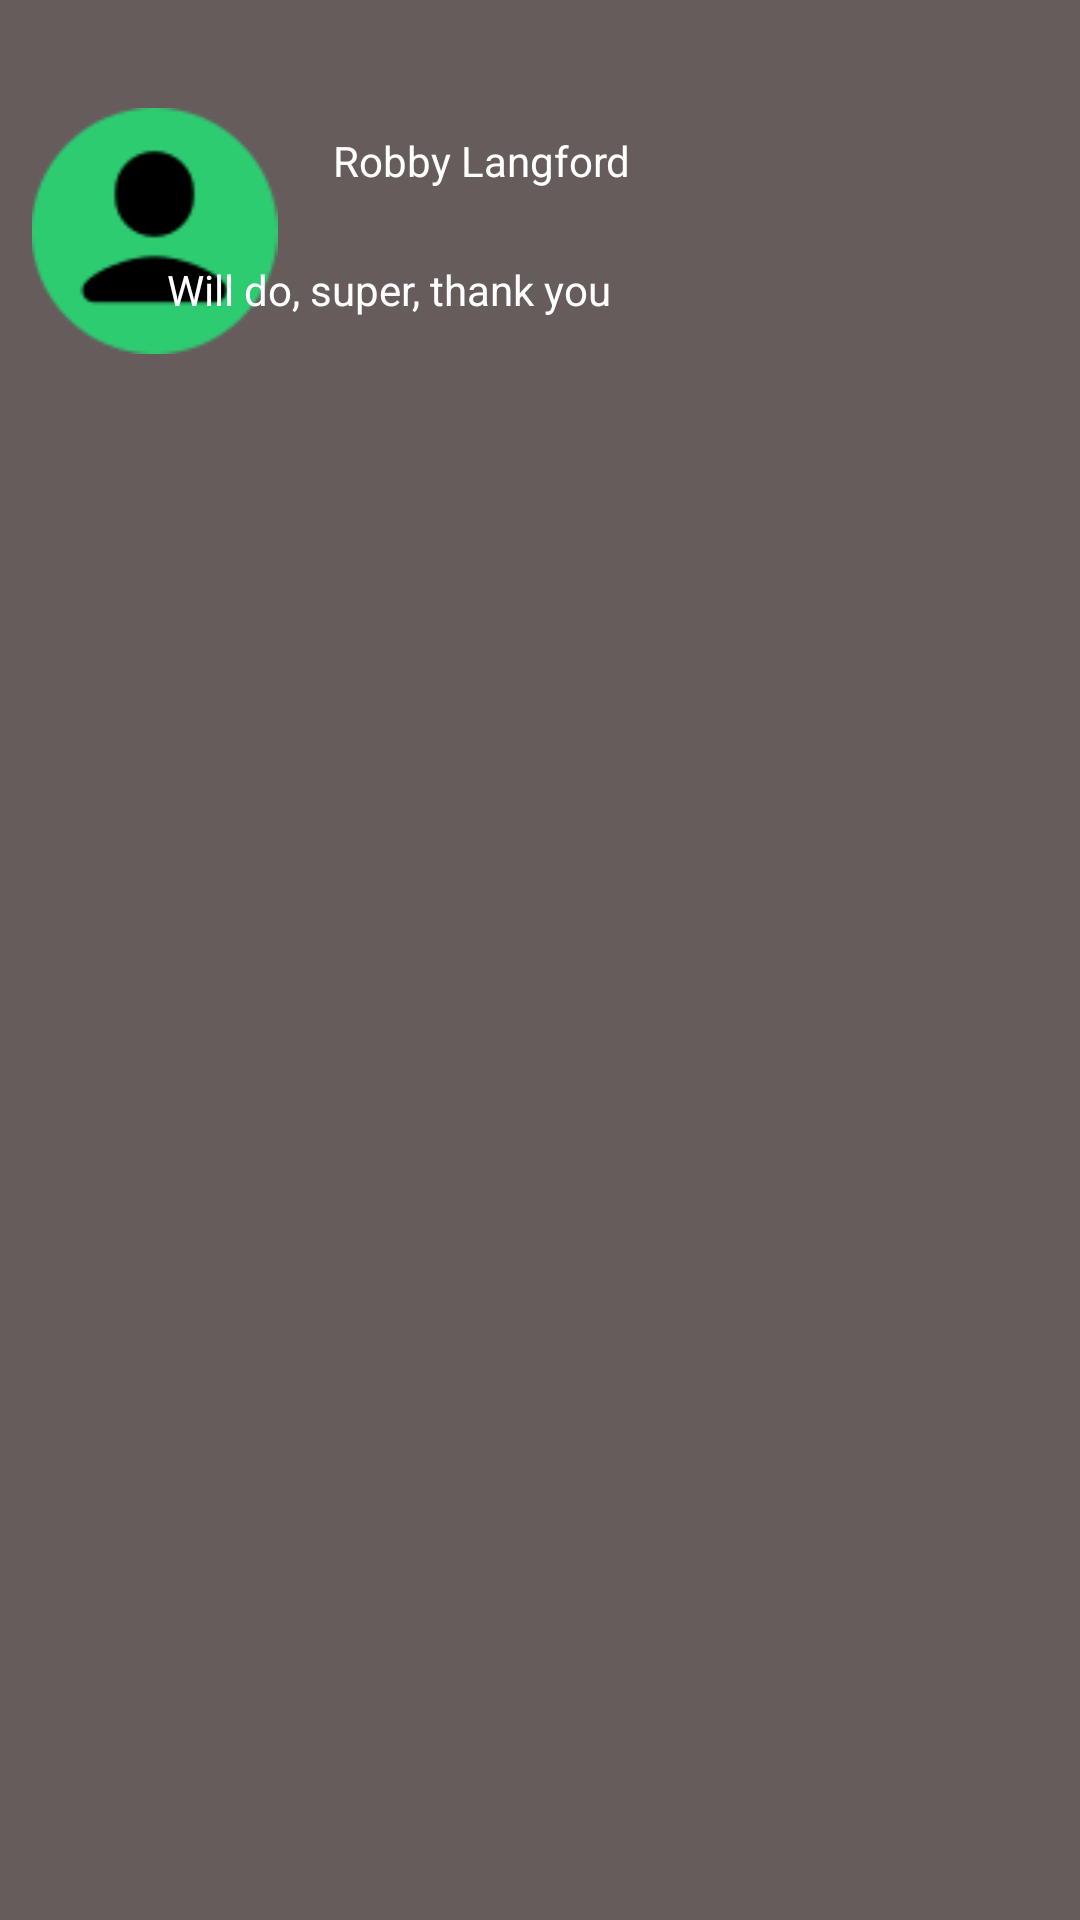

Named icons in this screenshot (1080px×1920px) and their bounding boxes, (x1, y1, x2, y2):
person: (32, 108, 299, 354)
